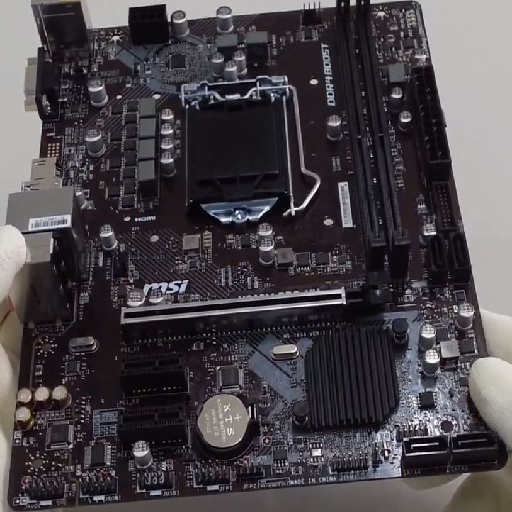CPU: (173, 77, 308, 226)
GPU: (121, 272, 384, 338)
MOTHERBOARD: (12, 7, 505, 482)
RAM: (330, 2, 409, 283)
